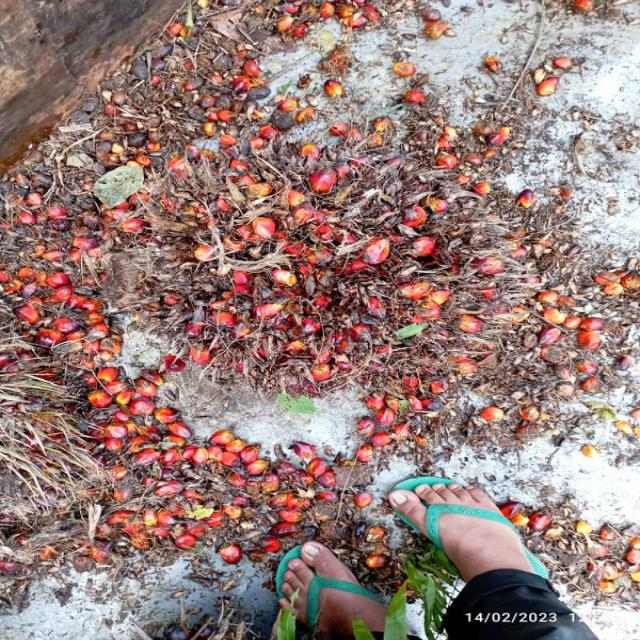fraksi 4: (94, 98, 529, 424)
